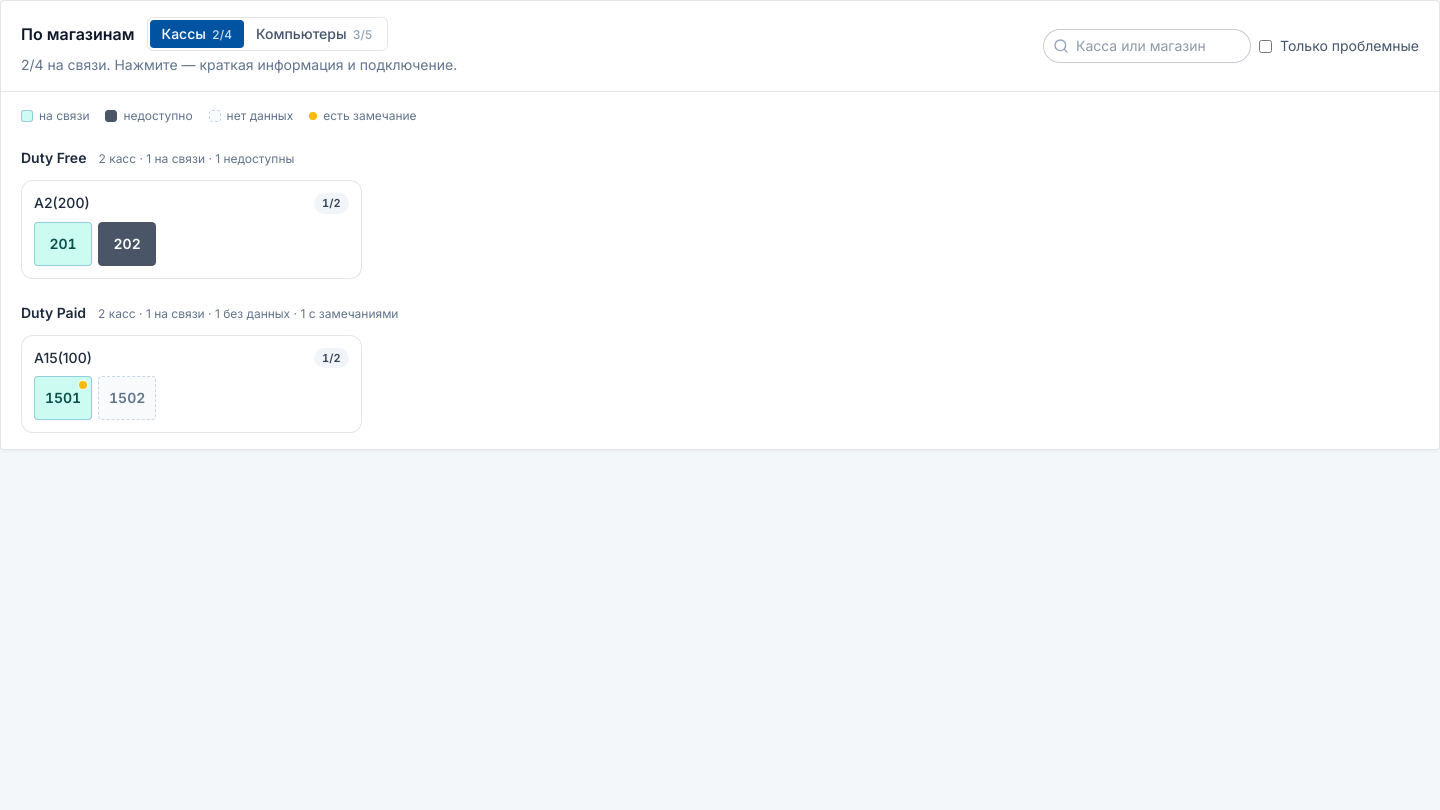
FleetMap: computers › places computers under the stores the cash registers already know, then the rest
Step 1. Click the tab "Компьютеры3/5" → point(314, 34), box [244,20,385,48]
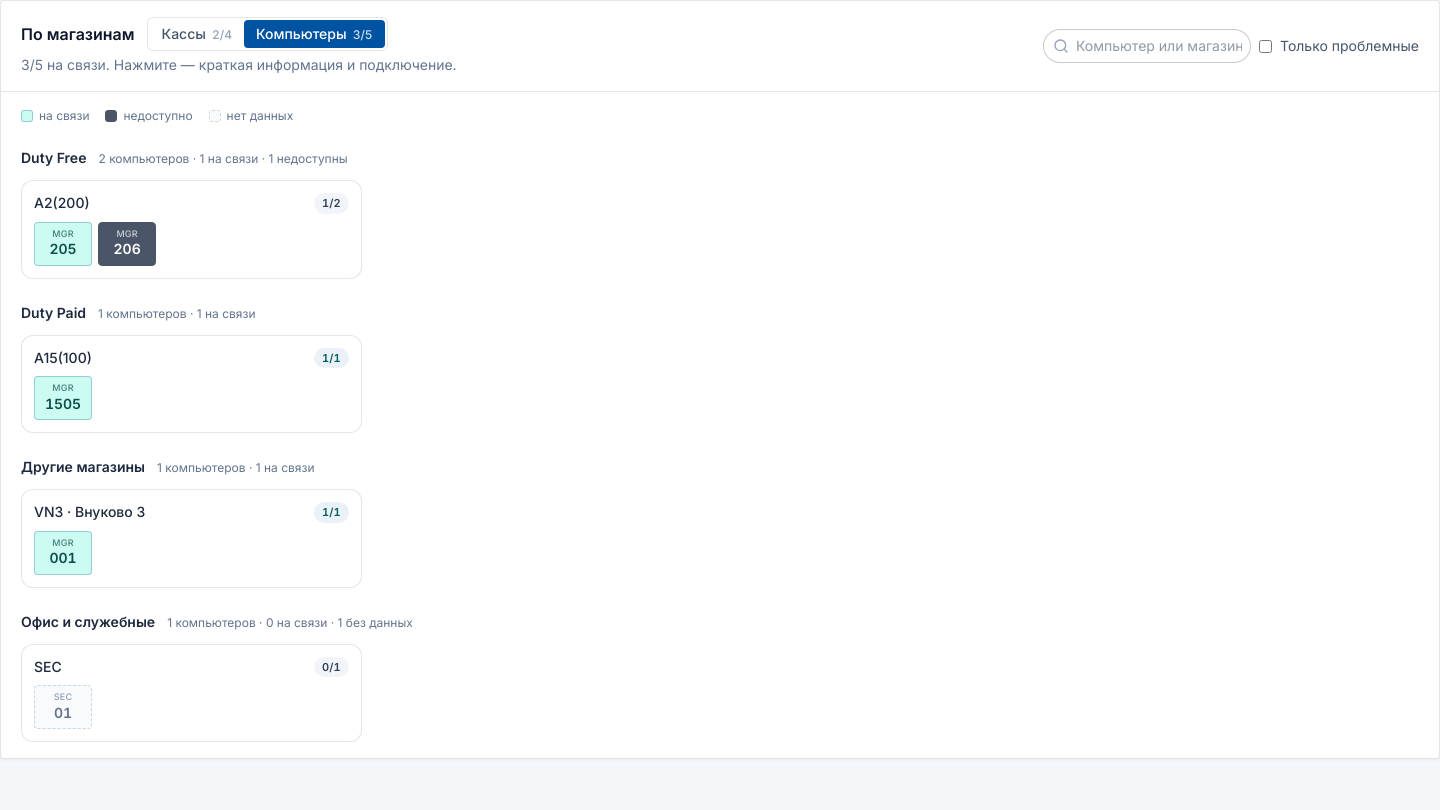
Expected: the text "A2(200)" is shown, [34,193,90,213]
Now the text "VN3 · Внуково 3" is shown, box [34,502,145,522]
Now the element with test id "store-office:SEC" is shown, box [21,644,362,742]
